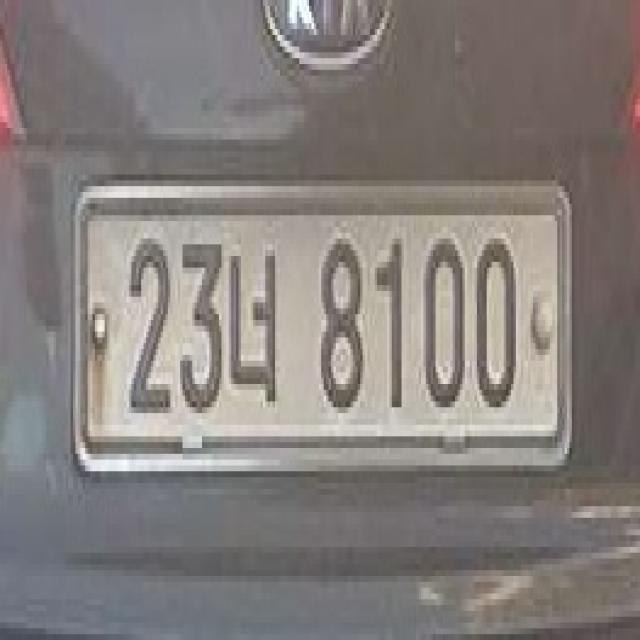0: (474, 219, 524, 427), (418, 228, 470, 418)
1: (374, 232, 411, 419)
2: (128, 230, 175, 420)
3: (180, 228, 224, 420)
8: (310, 230, 367, 416)
license_plate: (75, 185, 568, 465)
neo: (228, 226, 283, 418)
